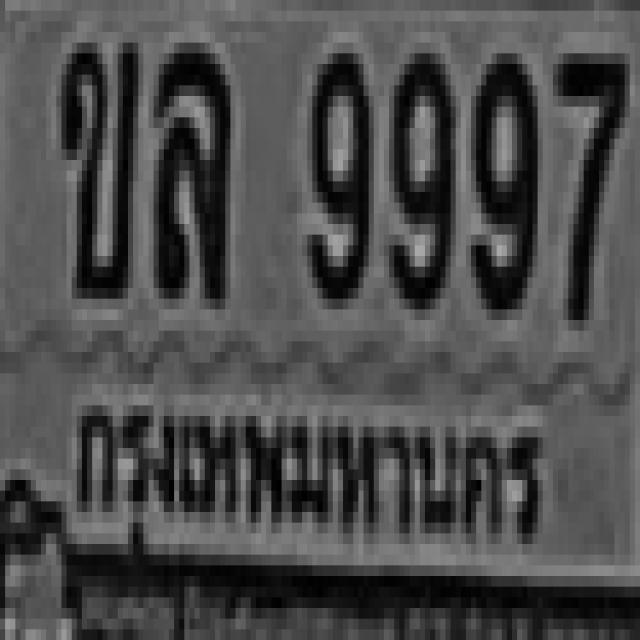11KhorKhai: (56, 32, 133, 288)
45LorLing: (148, 38, 226, 294)
7: (553, 43, 625, 309)
9: (466, 43, 532, 309), (302, 42, 369, 298), (384, 42, 451, 298)
Bangkok: (70, 367, 556, 574)
